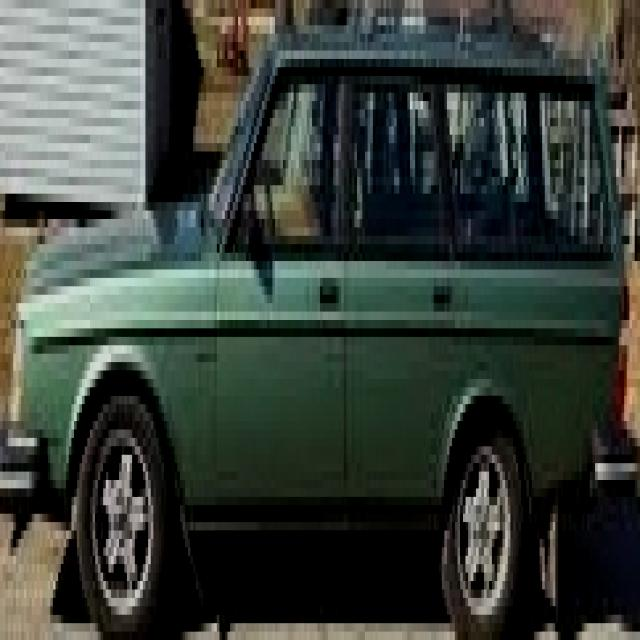green: (7, 11, 640, 640)
